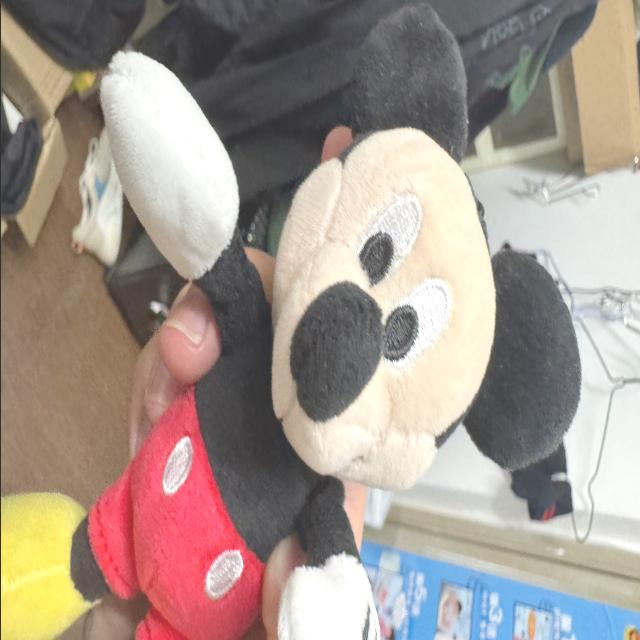mickey: (1, 6, 579, 639)
